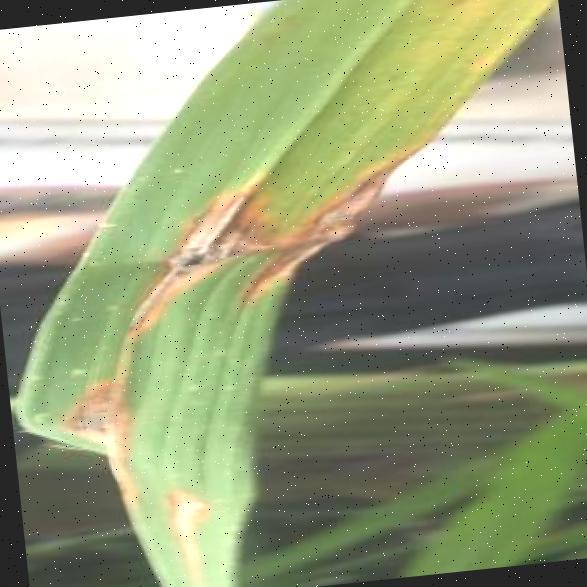Leaf_smut: (231, 138, 448, 320), (107, 154, 294, 362), (27, 359, 154, 507), (140, 453, 250, 586)
